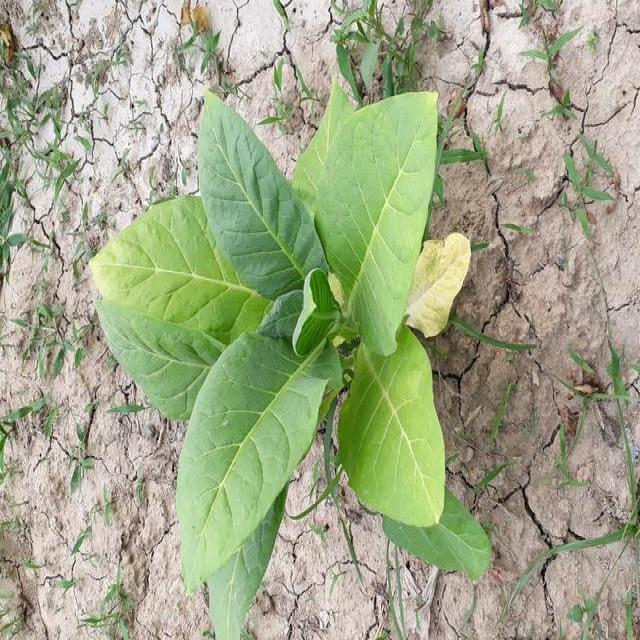crop: (88, 89, 496, 640)
